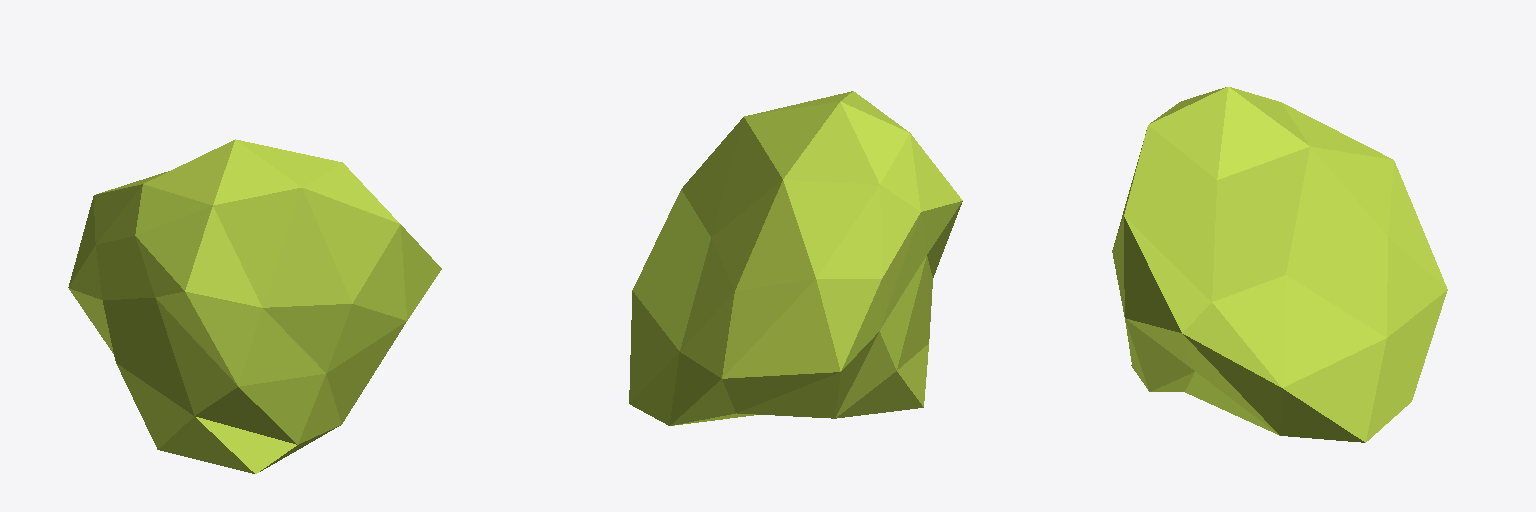
File: Rock9.obj
3 views of the same model, side by side, from view 1: azimuth 30°, elevation 25°; view 2: azimuth 150°, elevation 25°; view 3: azimuth 270°, elevation 25° (orthographic).
Parts seen in each view (by area): view 1: GeoSphere001; view 2: GeoSphere001; view 3: GeoSphere001.
Boxes of the visible parts, box(x1,y1,x2,y2) form: GeoSphere001: box(68, 139, 441, 473); GeoSphere001: box(629, 91, 962, 425); GeoSphere001: box(1112, 87, 1447, 442).
Bounding box in the file's own units: 1.95 × 2 × 2.07.